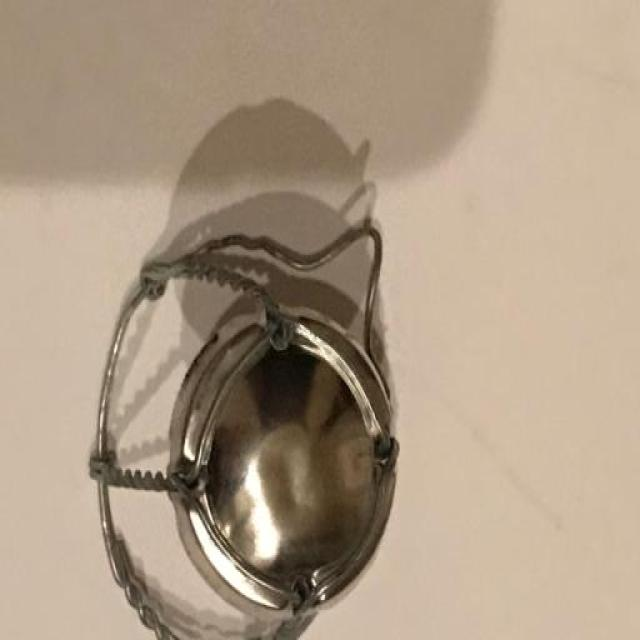Metal: (85, 230, 398, 640)
